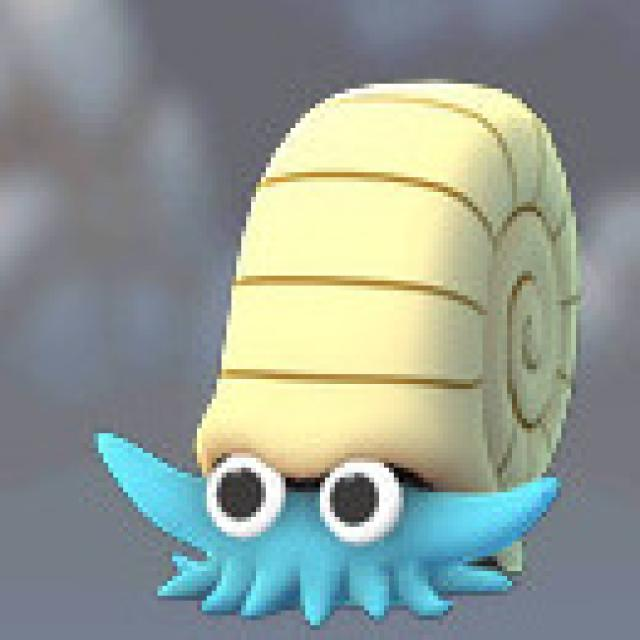Omanyte: (80, 55, 618, 624)
